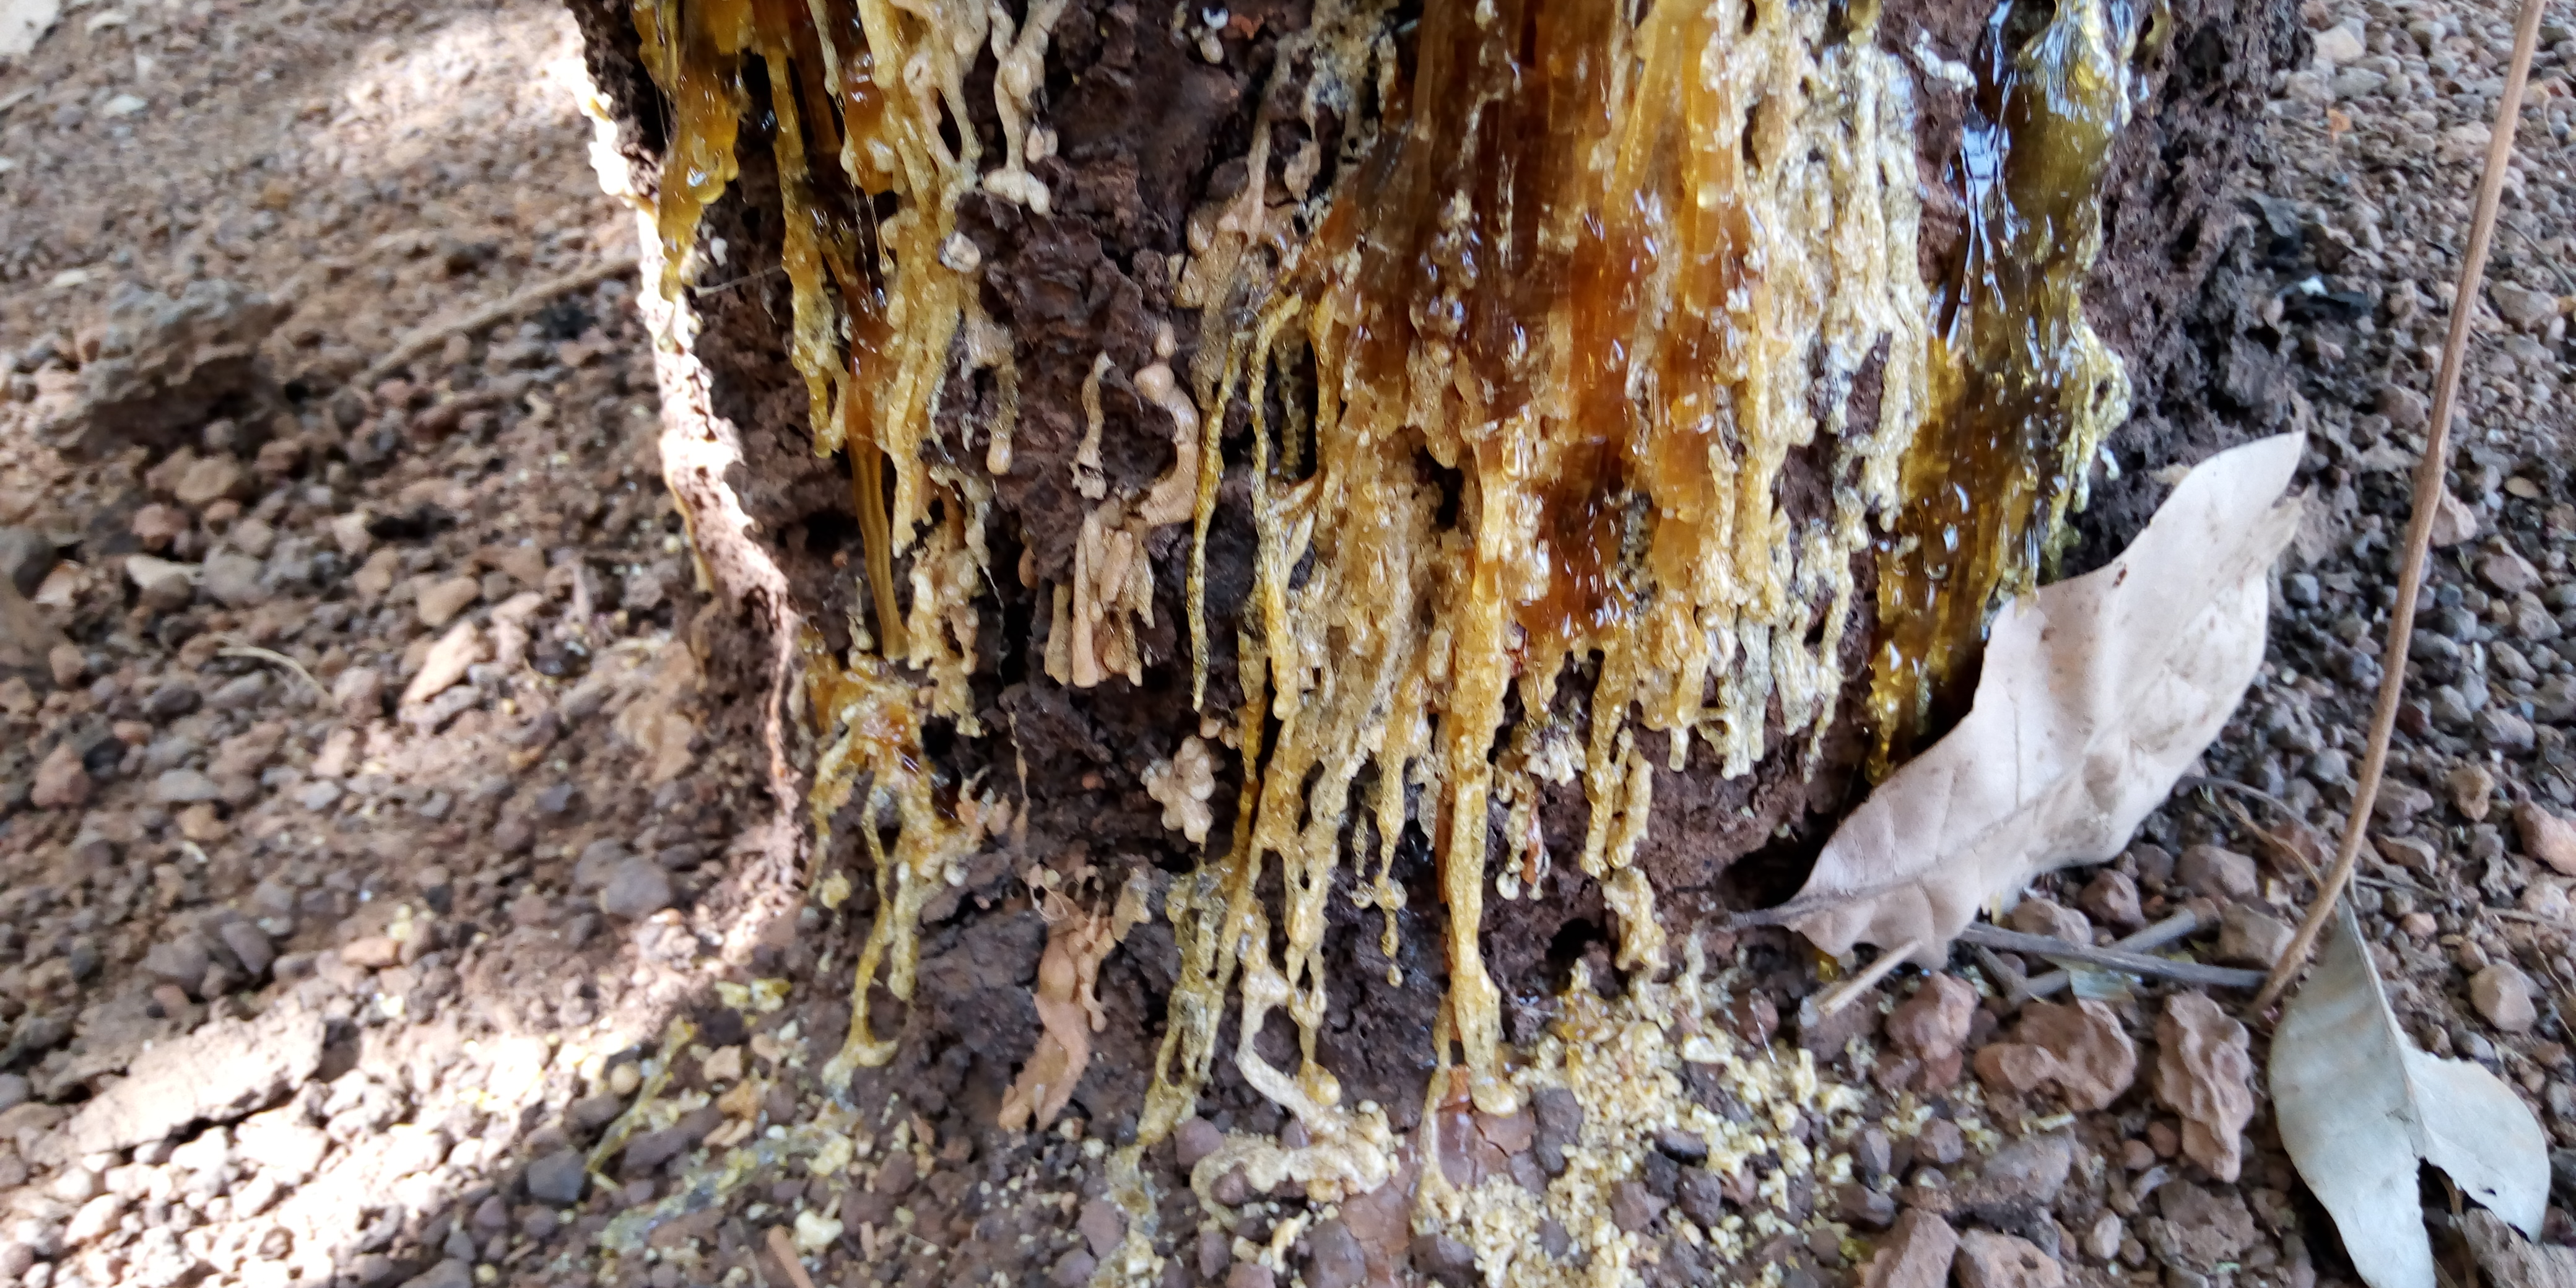Gommose: (1280, 2, 2106, 861), (637, 3, 1061, 780)
